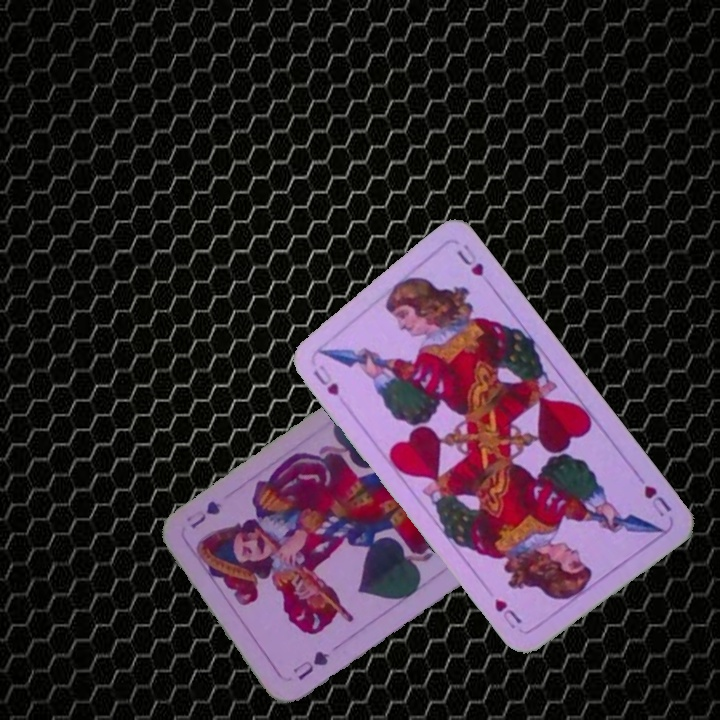GU: (288, 646, 332, 683)
HU: (640, 481, 674, 520), (309, 361, 342, 398)
